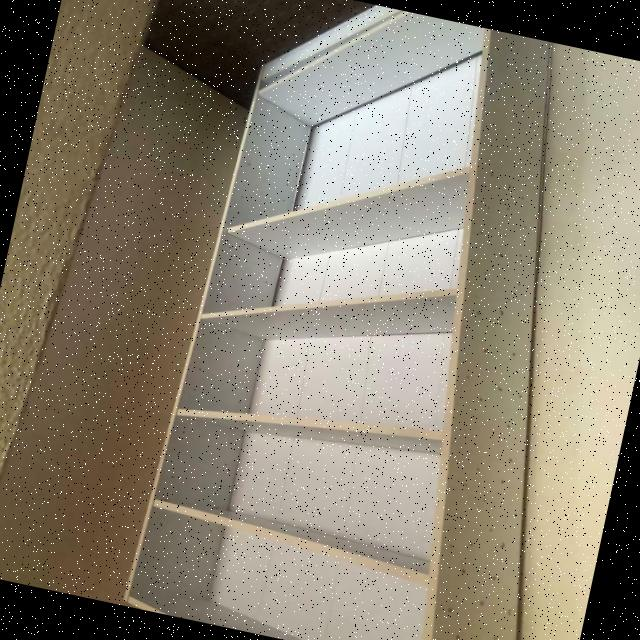Shelf: (113, 0, 640, 640)
